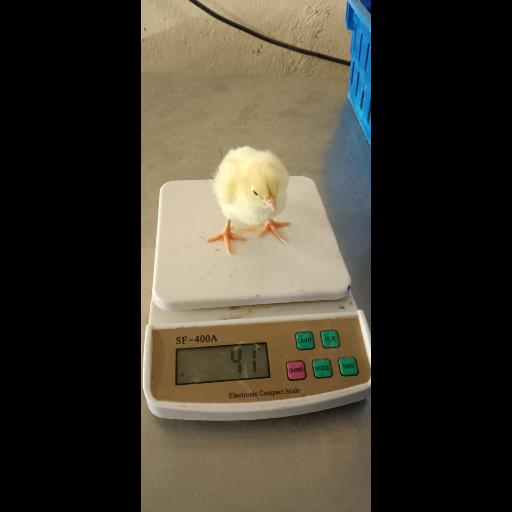chick: (208, 146, 292, 255)
